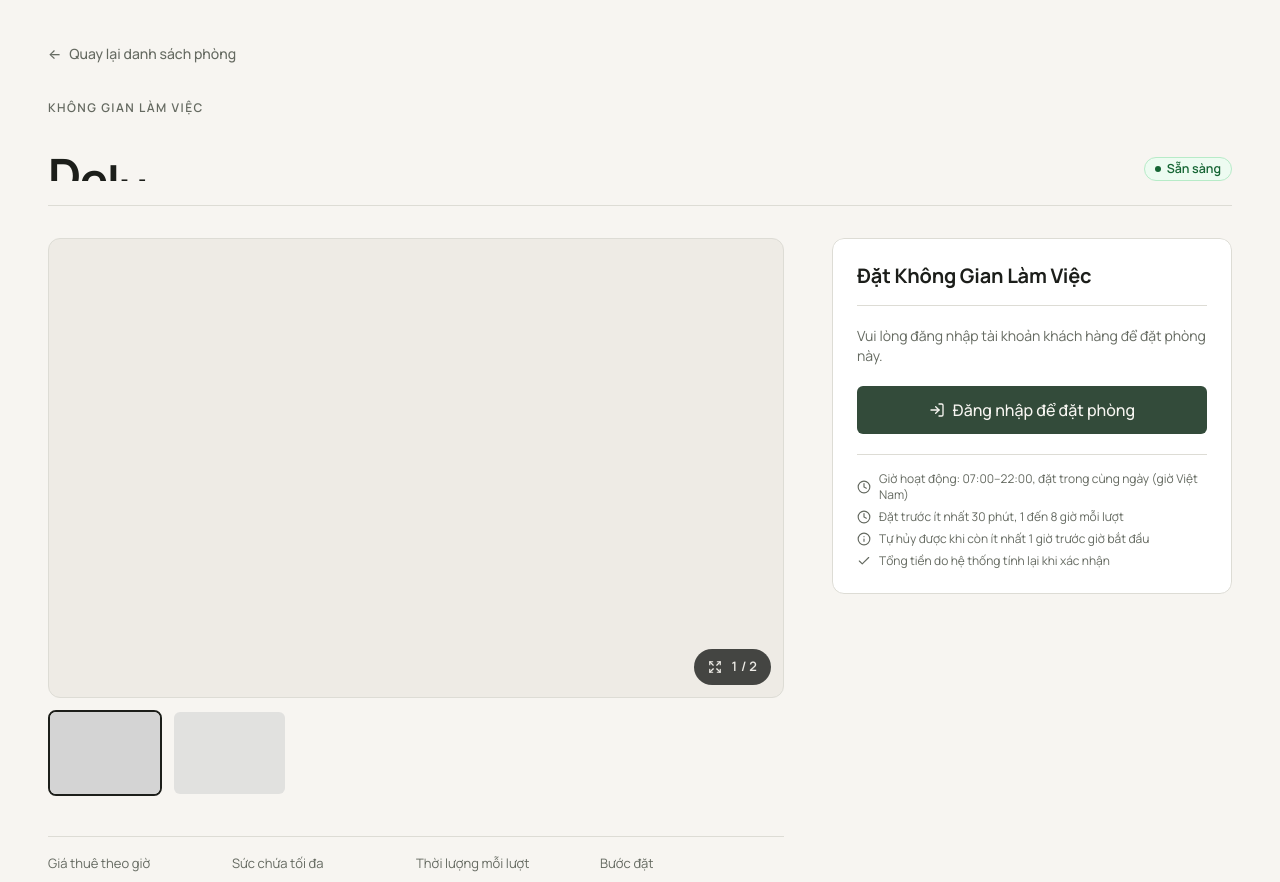
RoomDetailPage › Gallery lightbox › opens from the main image, navigates by button and arrow keys, closes on Esc and returns focus
Step 1. Click the button named "Phóng to ảnh 1 trên 2" → {"x": 416, "y": 468}, box [49,239,783,697]
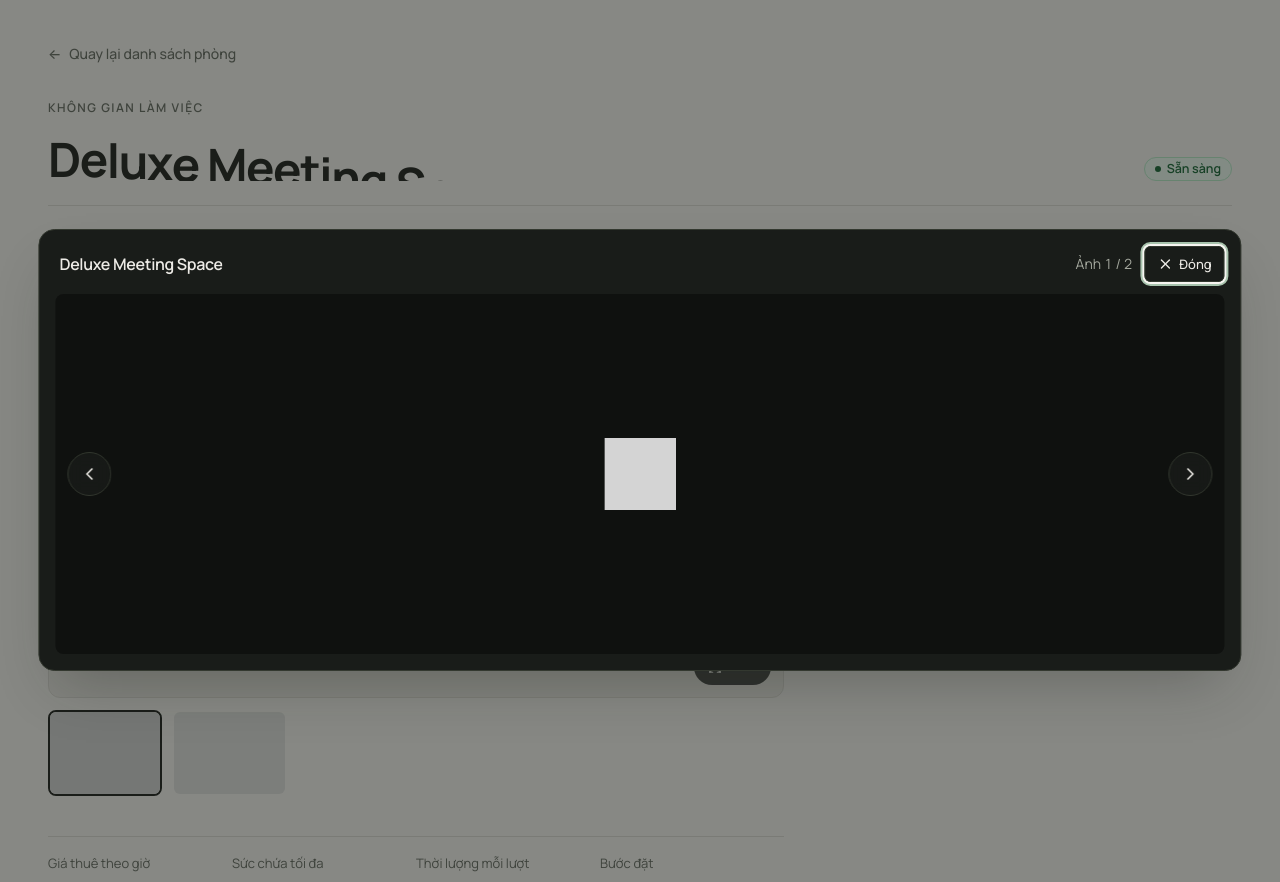
Now the text with test id "lightbox-counter" reads "Ảnh 1 / 2", box [1076,254,1132,274]
Step 2. Click the button named "Ảnh tiếp theo" → {"x": 1191, "y": 474}, box [1169,452,1213,496]
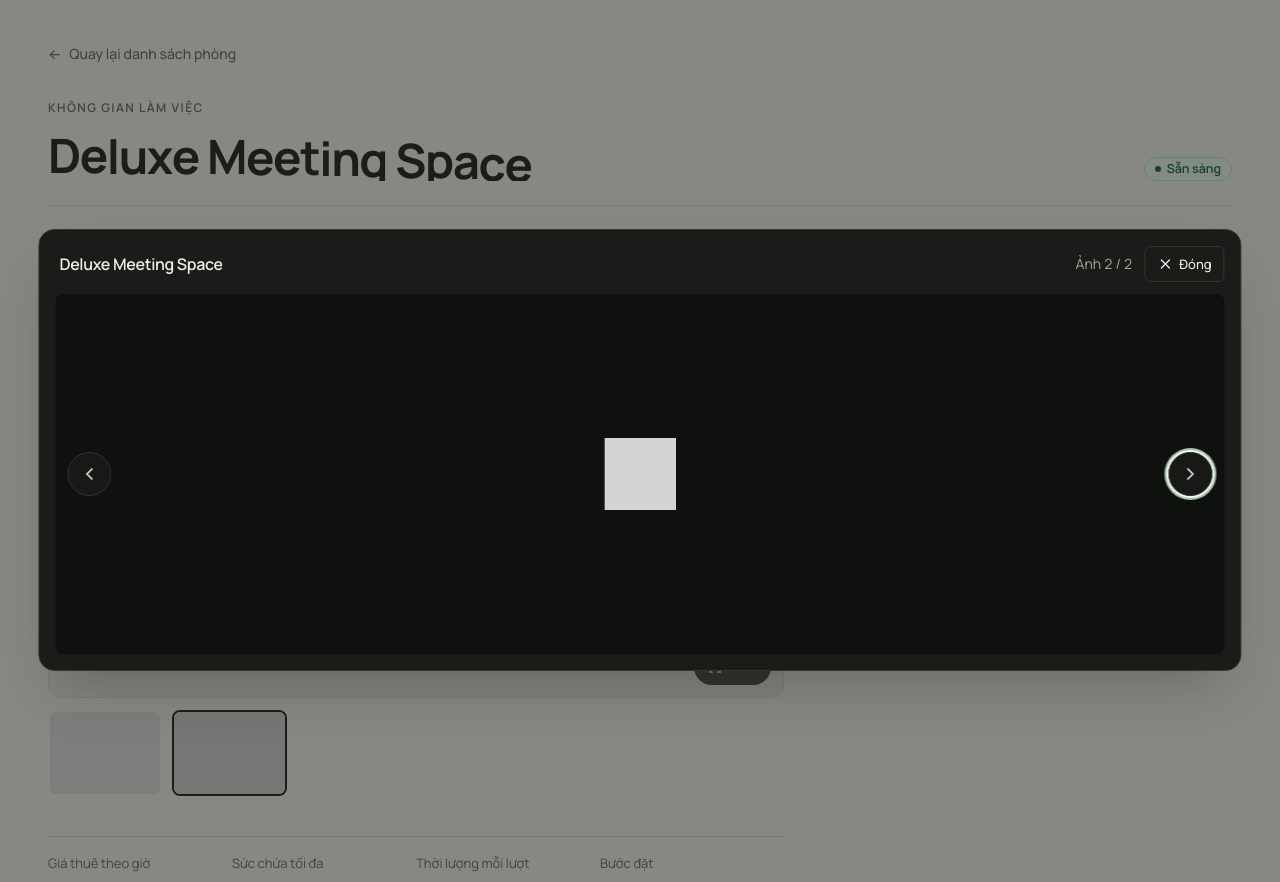
Now the text with test id "lightbox-counter" reads "Ảnh 2 / 2", box [1076,254,1132,274]
Step 3. Press Arrowright
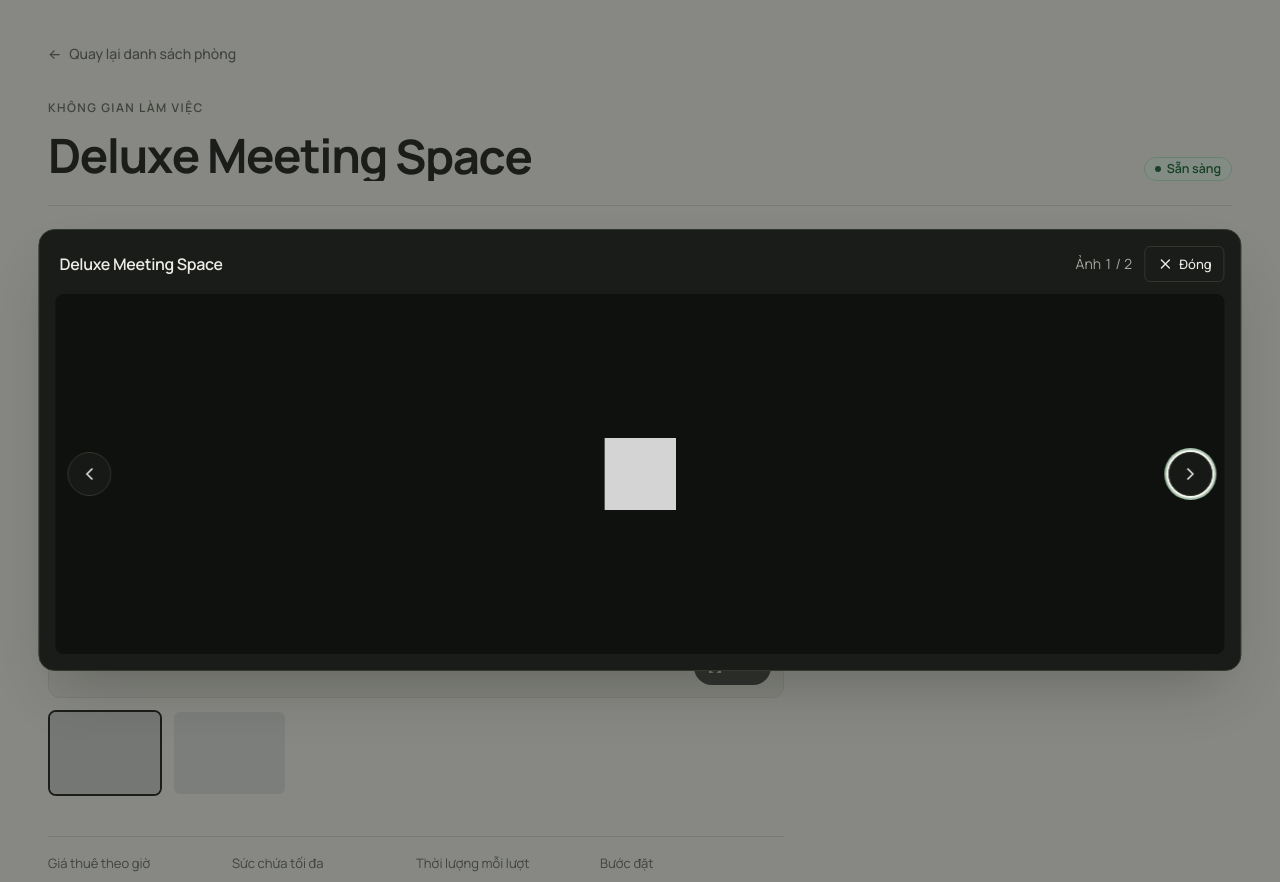
Now the text with test id "lightbox-counter" reads "Ảnh 1 / 2", box [1076,254,1132,274]
Step 4. Press Arrowleft
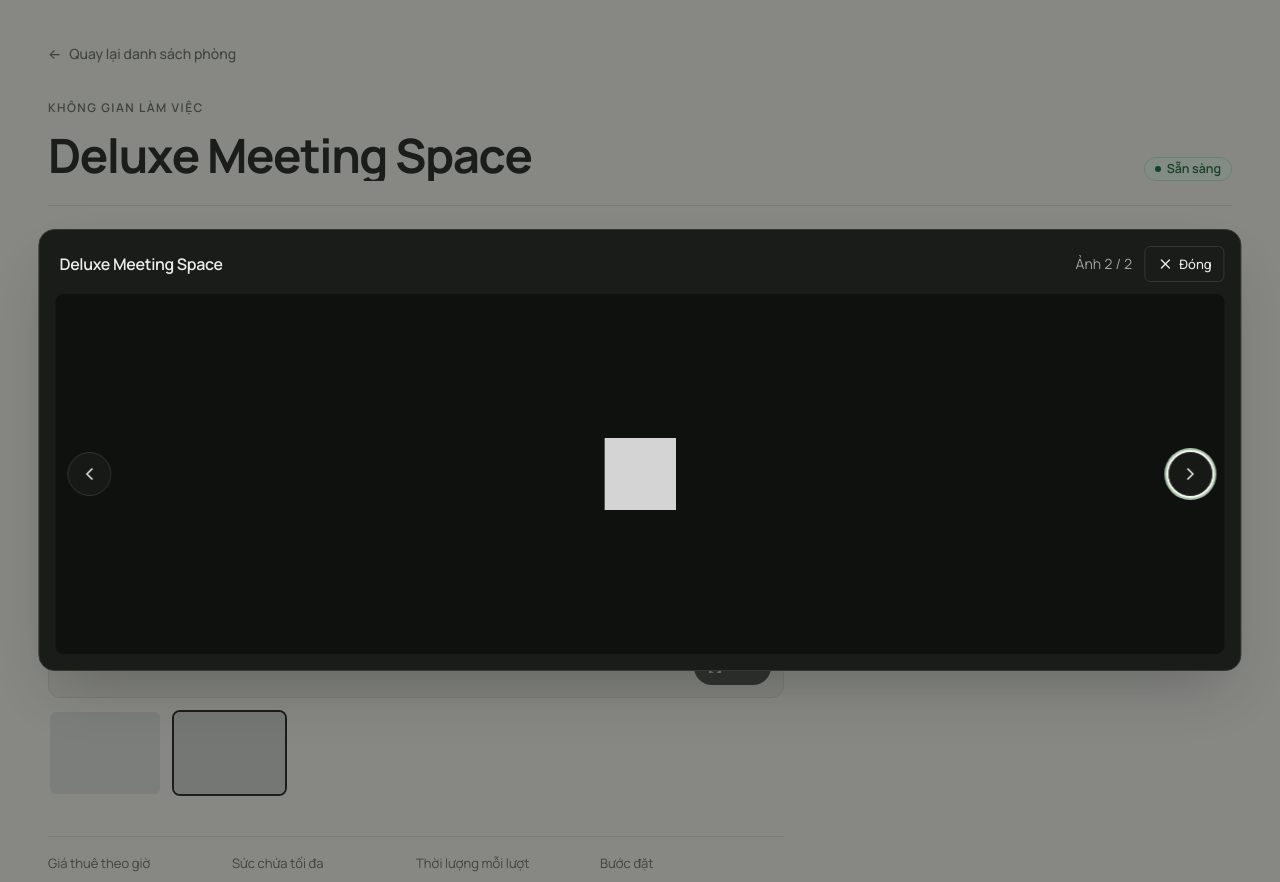
Now the text with test id "lightbox-counter" reads "Ảnh 2 / 2", box [1076,254,1132,274]
Step 5. Press Escape
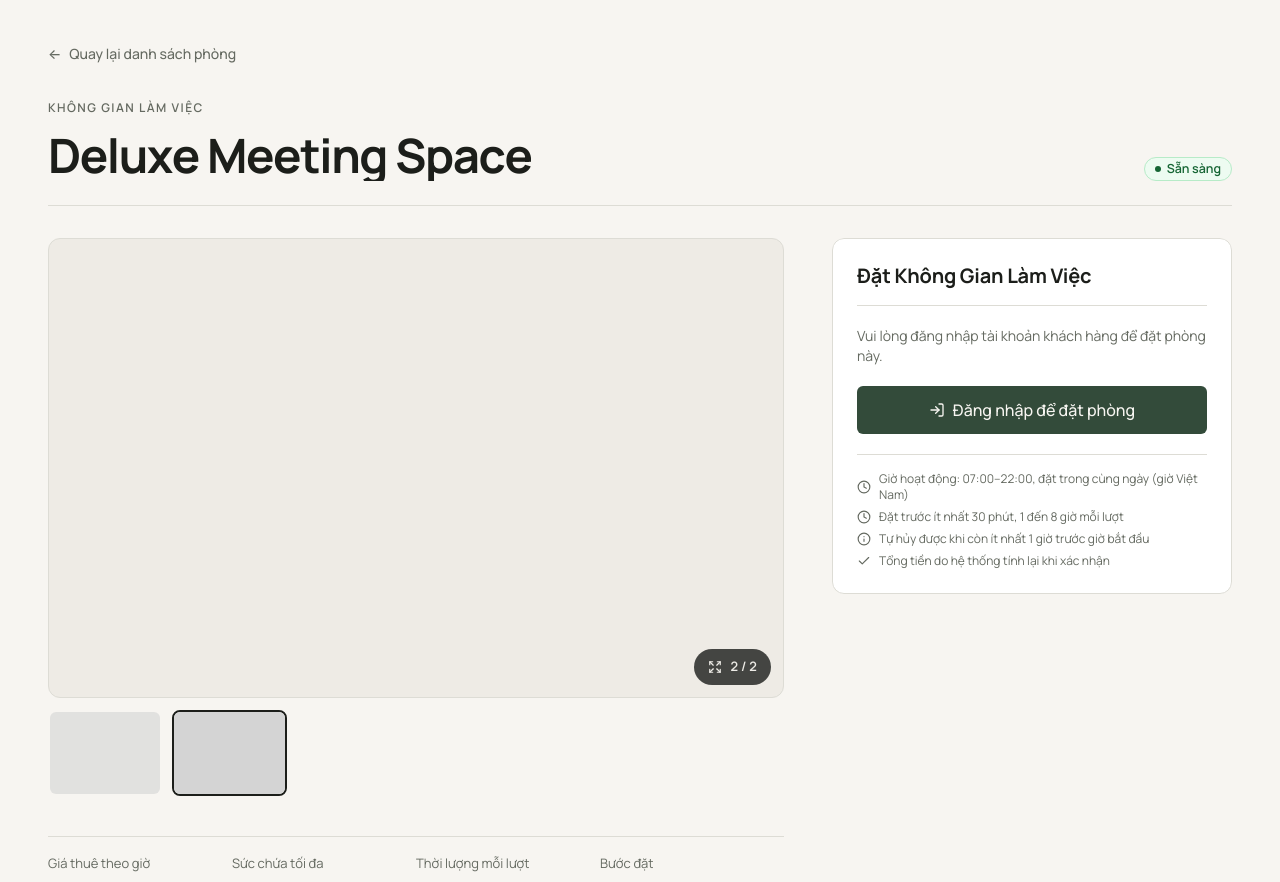
Now the dialog is gone
